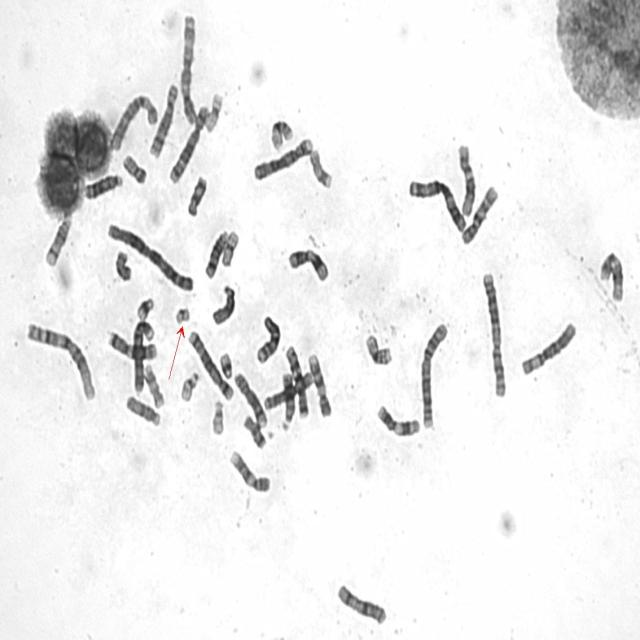A1: (106, 222, 195, 292), (23, 319, 98, 402)
A2: (482, 270, 508, 400), (420, 321, 450, 430)
A3: (407, 177, 467, 234), (182, 11, 198, 126)
B4: (254, 138, 314, 180), (134, 320, 156, 394)
B5: (168, 104, 210, 184), (188, 330, 235, 401)
C10: (461, 184, 498, 249), (254, 314, 282, 364)
C11: (285, 249, 330, 283), (378, 404, 420, 436)
C12: (598, 248, 626, 302), (458, 144, 476, 218)
C6: (520, 321, 578, 378), (110, 94, 158, 151)
C7: (286, 345, 308, 418), (107, 330, 158, 361)
C8: (150, 82, 180, 158), (234, 373, 268, 428)
C9: (229, 451, 273, 494), (308, 353, 333, 420)
D13: (83, 174, 124, 200), (281, 373, 296, 433)
D14: (42, 212, 74, 266), (203, 230, 229, 280)
D15: (124, 393, 162, 428), (212, 285, 238, 325)
E16: (364, 331, 394, 366), (269, 120, 294, 150)
E17: (141, 364, 166, 411), (310, 149, 332, 189)
E18: (186, 174, 208, 218), (244, 415, 267, 450)
F19: (204, 92, 224, 133), (222, 230, 240, 268)
F20: (122, 154, 147, 184), (114, 250, 132, 282)
G21: (136, 297, 154, 321), (220, 351, 234, 379)
G22: (210, 399, 228, 435), (180, 370, 199, 404)
X: (337, 582, 387, 626), (264, 370, 314, 412)
